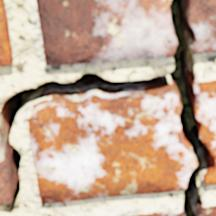brick: (0, 120, 13, 205), (0, 0, 13, 66)
broken_brick: (29, 92, 197, 203), (38, 0, 177, 65), (193, 80, 215, 159), (189, 0, 215, 54), (131, 212, 184, 215), (200, 205, 215, 215), (205, 171, 215, 185)
crack: (0, 0, 215, 215)
